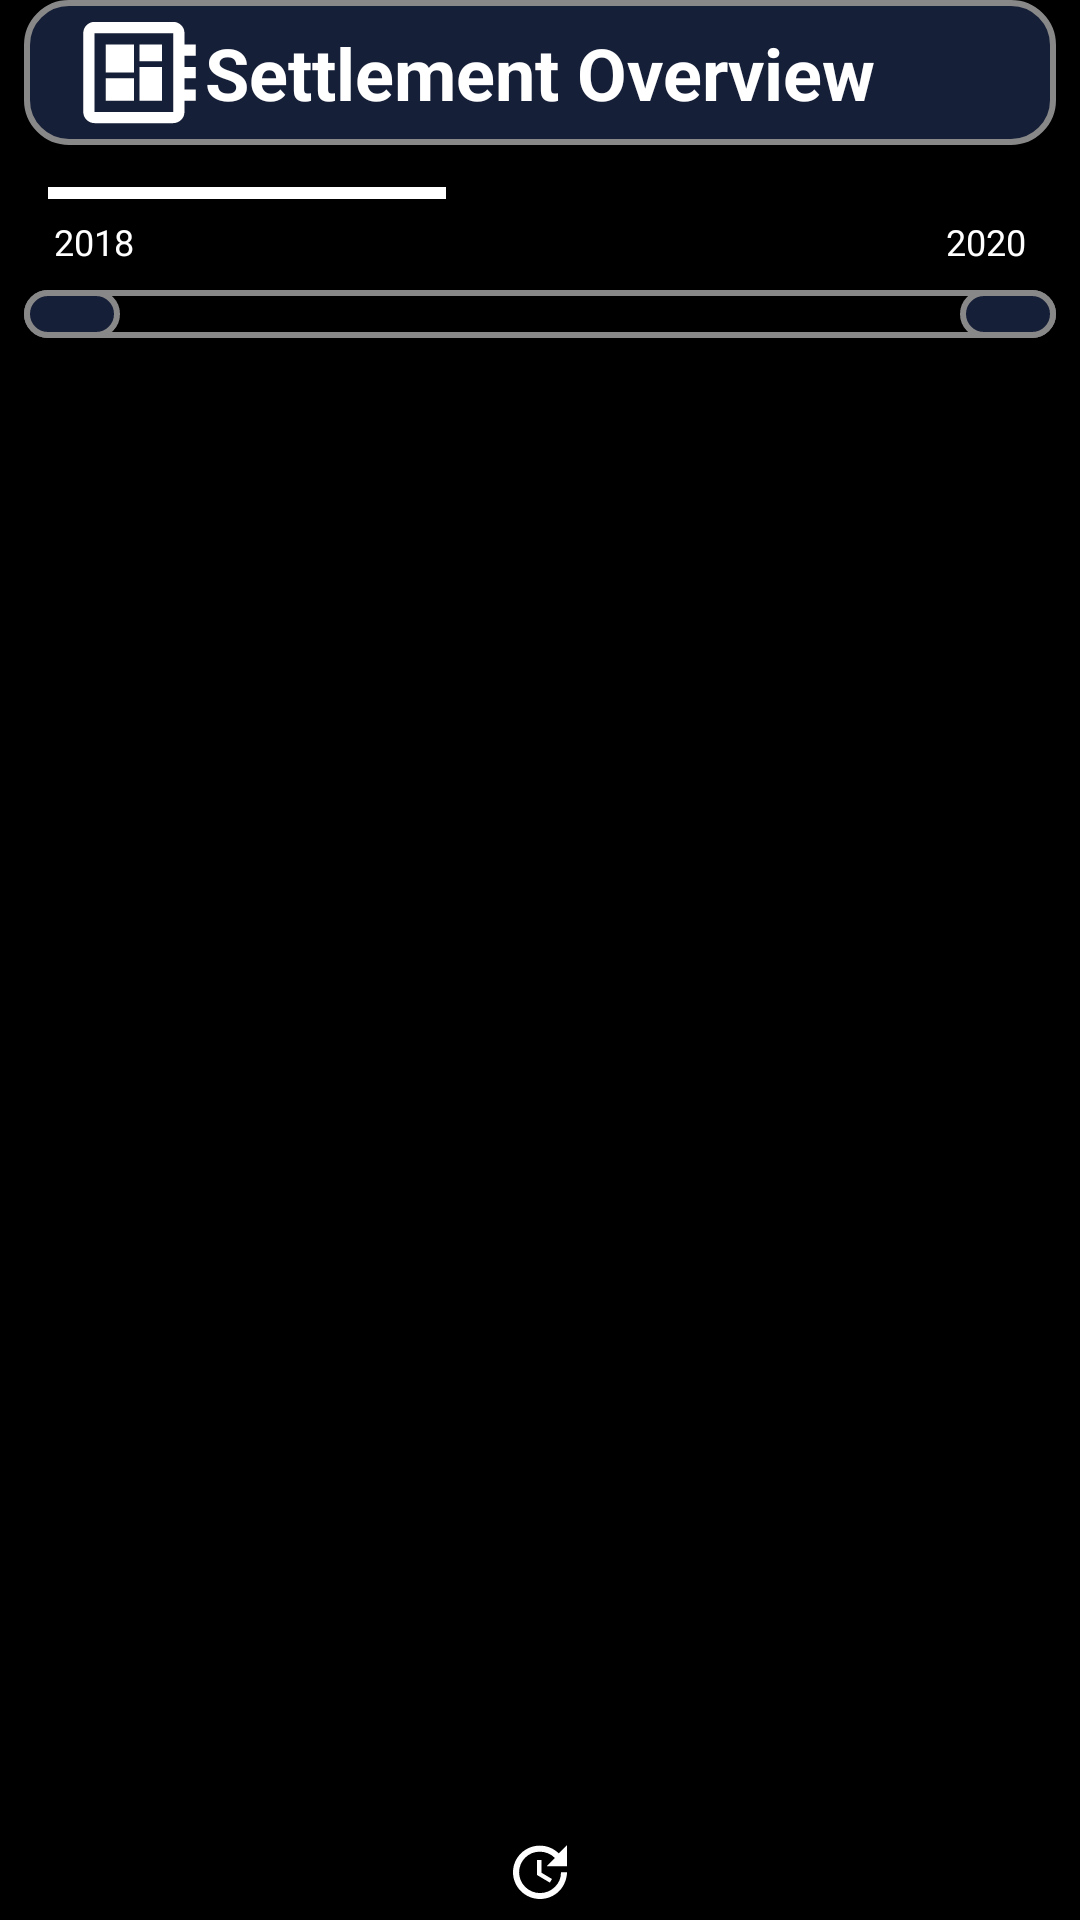

Screen size 1080×1920. Icon name, then its center in pixels as (x,y):
app: (139,72)
